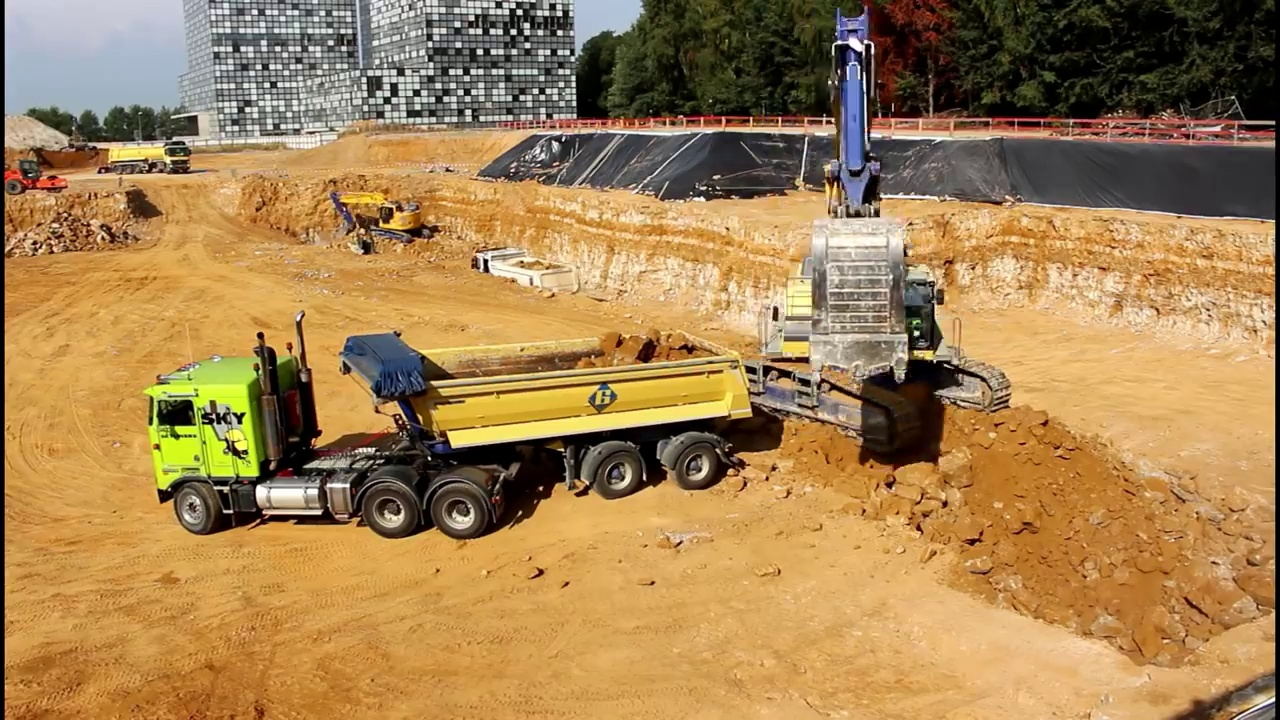compactor: (5, 159, 71, 200)
excavator: (726, 2, 1014, 448), (318, 179, 430, 257), (64, 123, 108, 161)
truck: (139, 306, 760, 541), (470, 236, 581, 321), (101, 137, 197, 179)
